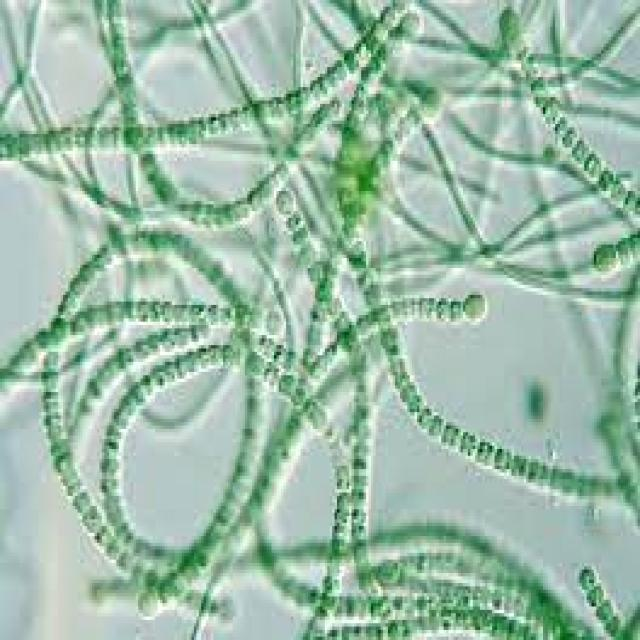Blue Green Algae: (592, 238, 618, 278), (463, 288, 487, 325), (56, 288, 80, 322), (48, 315, 68, 352), (242, 348, 262, 382), (306, 399, 328, 429), (274, 181, 296, 211), (334, 486, 356, 513), (616, 234, 635, 264), (342, 44, 361, 74), (308, 295, 327, 325), (543, 94, 560, 127), (414, 402, 432, 432), (174, 298, 192, 328), (579, 563, 599, 590), (478, 436, 494, 469), (172, 352, 192, 378), (70, 272, 90, 298), (490, 613, 509, 640), (332, 57, 349, 87), (257, 174, 274, 204), (245, 184, 262, 214), (444, 419, 461, 449), (230, 198, 252, 221), (184, 114, 199, 147), (72, 486, 90, 513), (586, 583, 604, 610), (596, 164, 616, 188), (584, 150, 601, 178), (356, 312, 374, 338), (461, 429, 475, 462), (495, 439, 509, 472), (206, 342, 226, 365), (82, 506, 102, 529), (58, 124, 75, 151), (434, 295, 451, 322), (509, 449, 526, 476), (63, 472, 82, 496), (429, 412, 444, 442), (400, 376, 415, 406), (390, 298, 408, 322), (306, 318, 322, 345), (240, 100, 255, 128), (562, 124, 580, 147), (308, 77, 325, 101), (281, 348, 298, 372), (599, 596, 616, 620), (572, 134, 587, 161), (133, 295, 148, 322), (366, 593, 381, 620), (111, 409, 131, 429), (419, 295, 436, 318), (388, 352, 405, 375), (92, 523, 109, 546), (44, 127, 58, 154), (160, 298, 175, 322), (555, 114, 570, 137), (291, 221, 305, 245), (449, 295, 463, 318), (286, 208, 301, 228), (189, 352, 204, 372), (606, 613, 621, 633), (199, 345, 211, 369), (228, 104, 240, 127), (223, 342, 235, 365), (150, 298, 160, 318)
